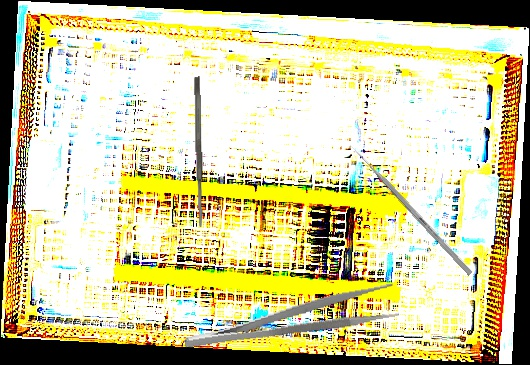Dressing Forceps: (180, 281, 400, 354)
Pusher: (347, 142, 474, 276)
Spatula Surgical: (193, 76, 204, 228)
